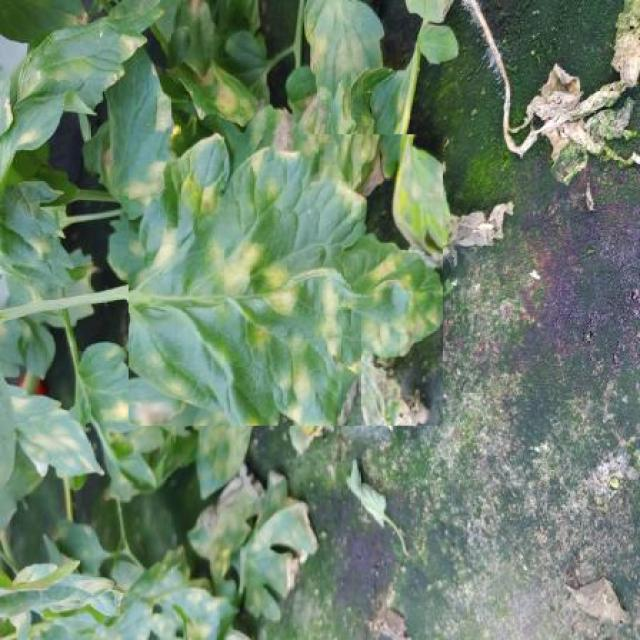Leaf Mold: (129, 134, 444, 426)
